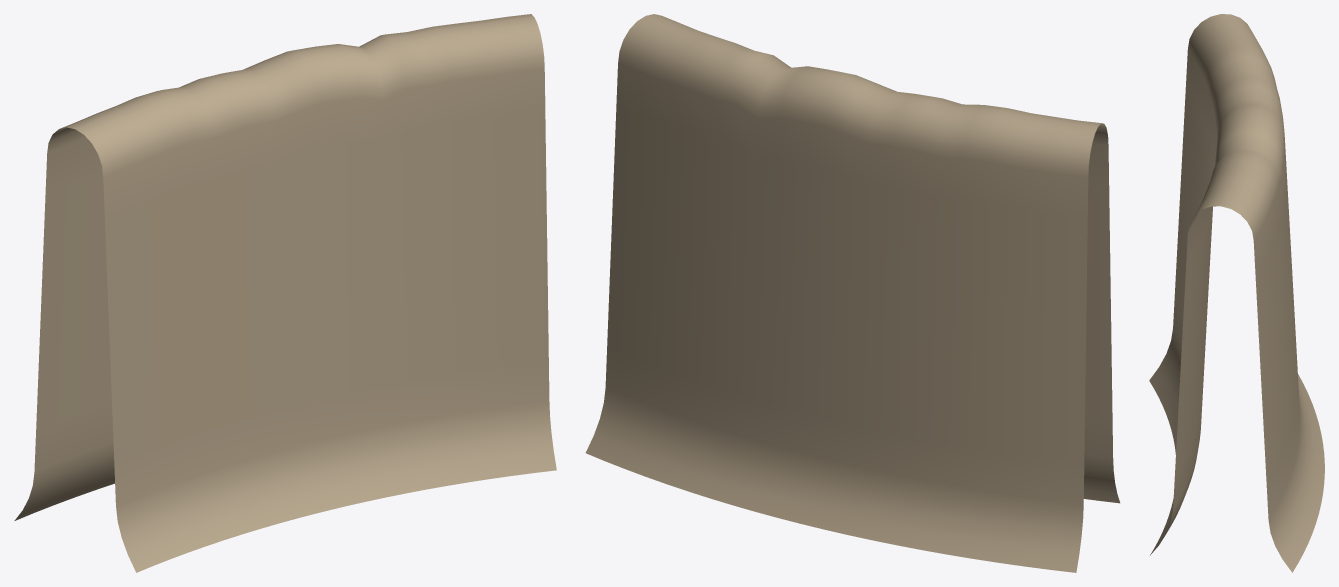
The model's file is KFB_Wall_curved_ring_r2.r1.glb.
3 renders of one model, left to right at view 1: azimuth 30°, elevation 25°; view 2: azimuth 150°, elevation 25°; view 3: azimuth 270°, elevation 25°, orthographic. The views are drawn at different scales.
Visible parts, largest first — view 1: KFB_Wall_curved_ring_r2; view 2: KFB_Wall_curved_ring_r2; view 3: KFB_Wall_curved_ring_r2.
Part boxes in pixels (box(x1,y1,x2,y2)): KFB_Wall_curved_ring_r2: box(14, 14, 556, 572); KFB_Wall_curved_ring_r2: box(585, 14, 1120, 572); KFB_Wall_curved_ring_r2: box(1149, 14, 1324, 572).
Bounding box in the file's own units: 4.49 × 3.64 × 1.6.
